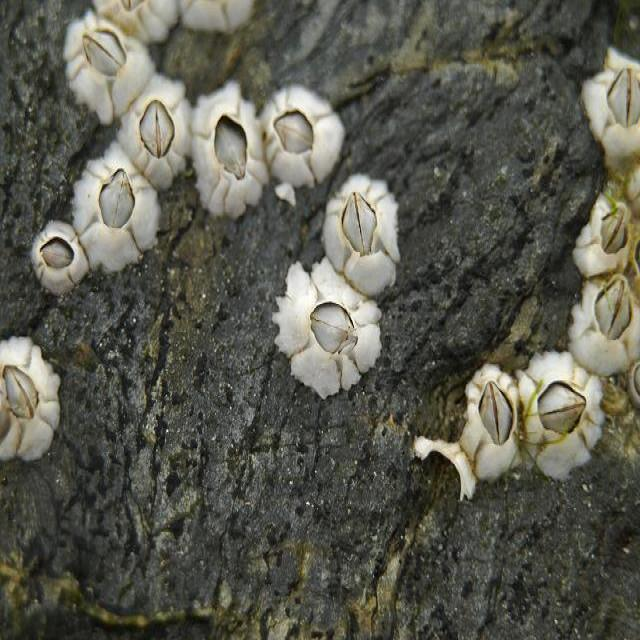barnacles: (278, 266, 387, 399), (63, 158, 165, 279), (190, 93, 270, 228), (262, 87, 353, 194), (320, 178, 400, 299), (522, 368, 602, 489), (63, 13, 145, 116), (0, 335, 60, 474), (119, 81, 193, 187), (456, 369, 524, 481), (574, 275, 640, 370), (582, 52, 640, 156), (570, 181, 634, 270), (29, 220, 88, 296)
